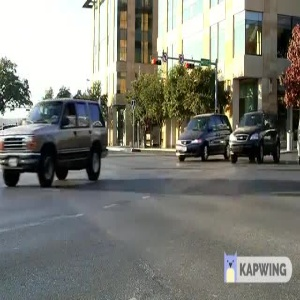suv: (1, 96, 115, 188), (231, 108, 281, 166)
van: (171, 112, 234, 161)
